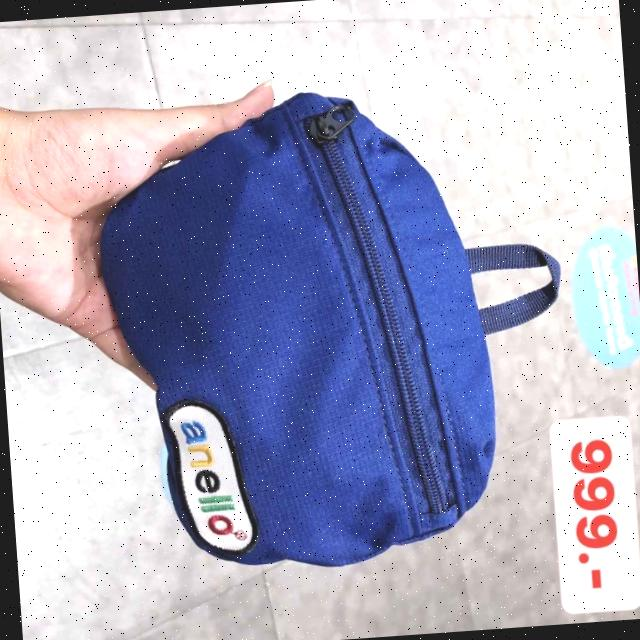Handbag: (87, 77, 506, 593)
